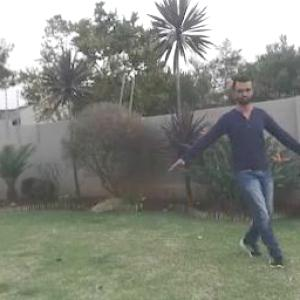land: (164, 76, 299, 256)
